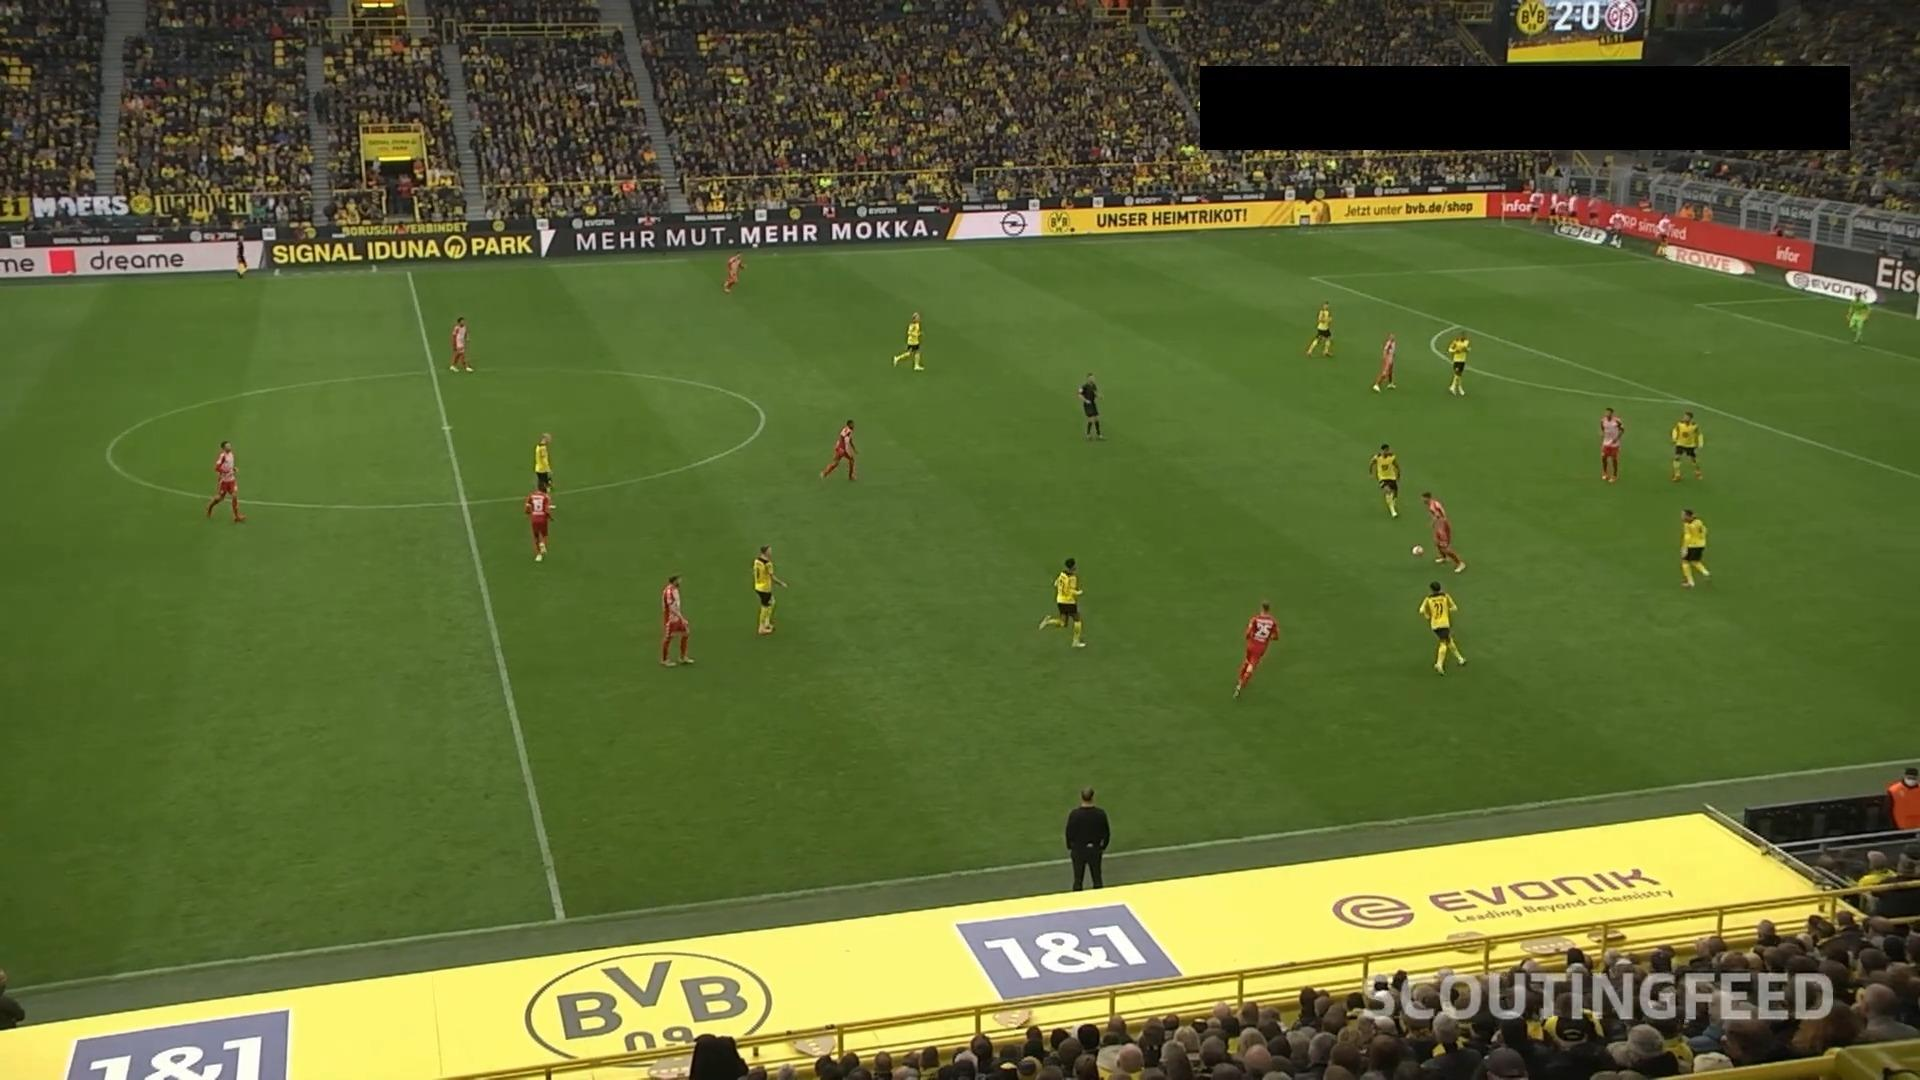ball: (1411, 543, 1425, 558)
